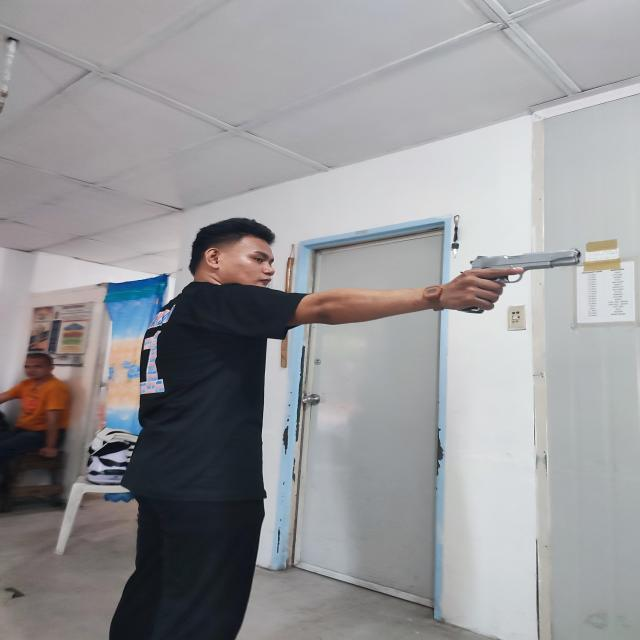pistol: (458, 247, 582, 313)
